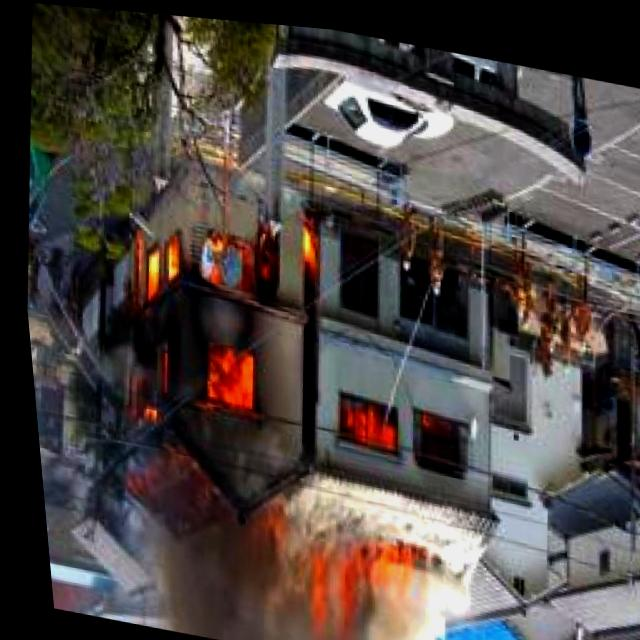helmet: (91, 180, 335, 464), (328, 391, 431, 460)
no_helmet: (123, 447, 481, 640)
